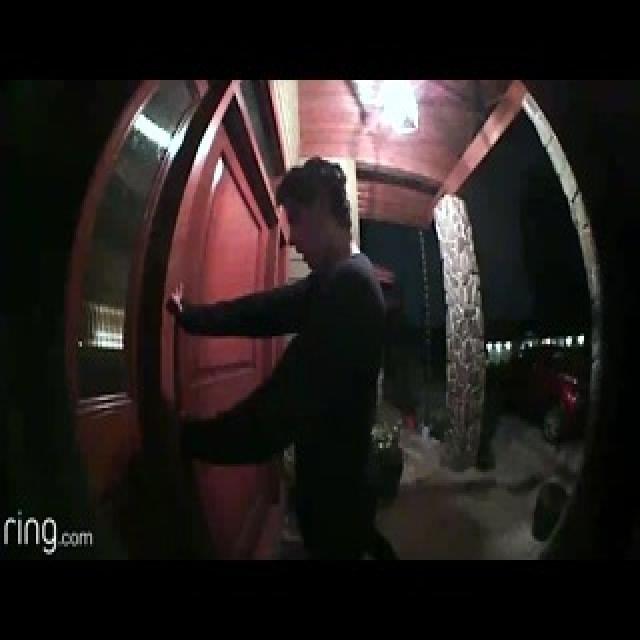thief: (270, 175, 380, 466)
